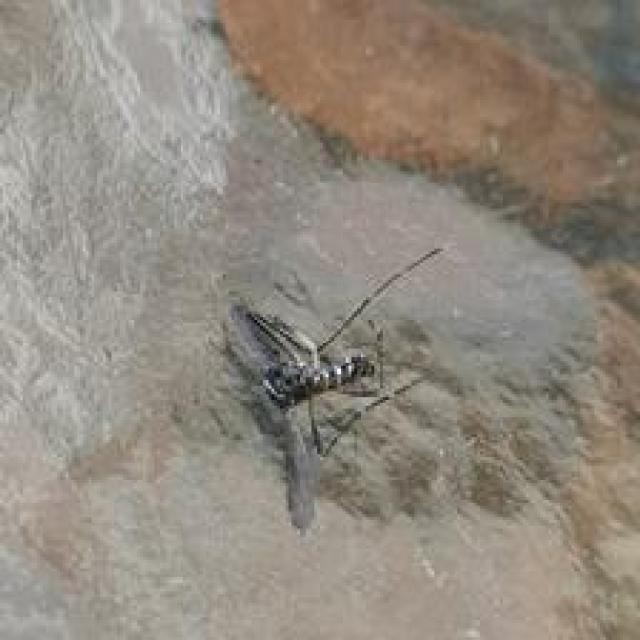Aedes albopictus: (219, 244, 444, 533)
